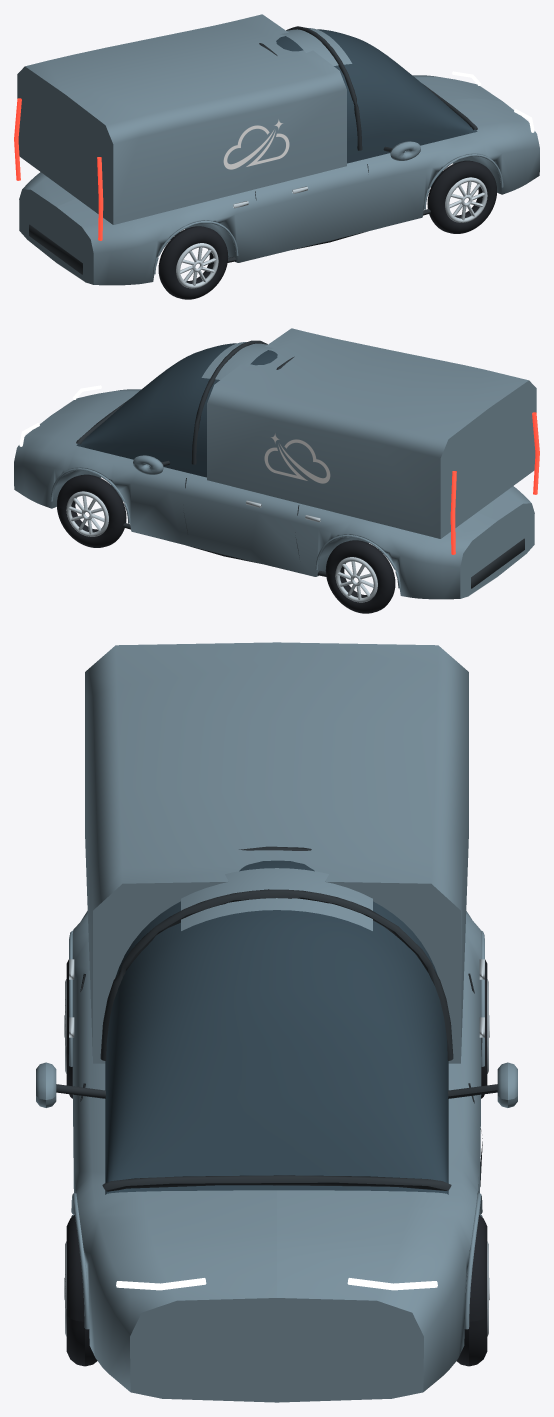
File: car_van.glb
3 renders of one model, top to bottom at view 1: azimuth 30°, elevation 25°; view 2: azimuth 150°, elevation 25°; view 3: azimuth 270°, elevation 25°, orthographic. The views are drawn at different scales.
Parts seen in each view (by area): view 1: body_paint_batch_0, smoked_glass_batch_0, rubber_batch_4, rubber_batch_2, carbon_trim_batch_0, brushed_alloy_batch_4, brushed_alloy_batch_2, brand_symbol_batch_0, rear_led_batch_0; view 2: body_paint_batch_0, smoked_glass_batch_0, rubber_batch_3, rubber_batch_1, carbon_trim_batch_0, brushed_alloy_batch_3, brushed_alloy_batch_1, brand_symbol_batch_0, rear_led_batch_0; view 3: body_paint_batch_0, smoked_glass_batch_0, carbon_trim_batch_0, rubber_batch_1, rubber_batch_2, front_led_batch_0.
Part boxes in pixels (box(x1,y1,x2,y2)): body_paint_batch_0: box(17, 14, 539, 285); smoked_glass_batch_0: box(276, 29, 477, 163); rubber_batch_4: box(158, 226, 228, 299); rubber_batch_2: box(427, 160, 496, 233); carbon_trim_batch_0: box(29, 26, 477, 274); brushed_alloy_batch_4: box(176, 243, 218, 288); brushed_alloy_batch_2: box(445, 177, 487, 222); brand_symbol_batch_0: box(223, 119, 289, 169); rear_led_batch_0: box(14, 98, 103, 240); body_paint_batch_0: box(14, 328, 536, 599); smoked_glass_batch_0: box(76, 343, 277, 477); rubber_batch_3: box(325, 540, 395, 613); rubber_batch_1: box(57, 474, 126, 547); carbon_trim_batch_0: box(76, 340, 524, 588); brushed_alloy_batch_3: box(335, 557, 377, 602); brushed_alloy_batch_1: box(66, 491, 108, 536); brand_symbol_batch_0: box(264, 433, 330, 483); rear_led_batch_0: box(450, 412, 539, 554); body_paint_batch_0: box(36, 642, 517, 1402); smoked_glass_batch_0: box(105, 860, 448, 1194); carbon_trim_batch_0: box(56, 846, 497, 1191); rubber_batch_1: box(457, 1215, 487, 1366); rubber_batch_2: box(66, 1215, 97, 1366); front_led_batch_0: box(116, 1278, 437, 1290).
Bounding box in the file's own units: 5.06 × 2.03 × 2.36.
8 materials, 1 textured.
